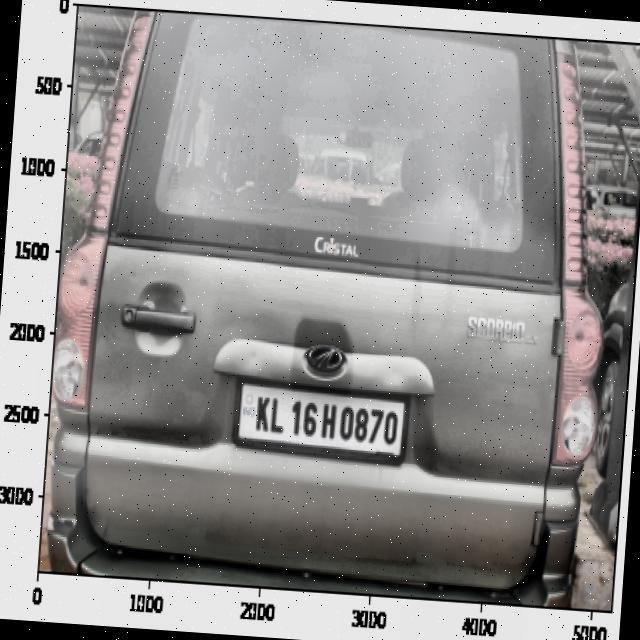license_plate: (239, 382, 406, 459)
